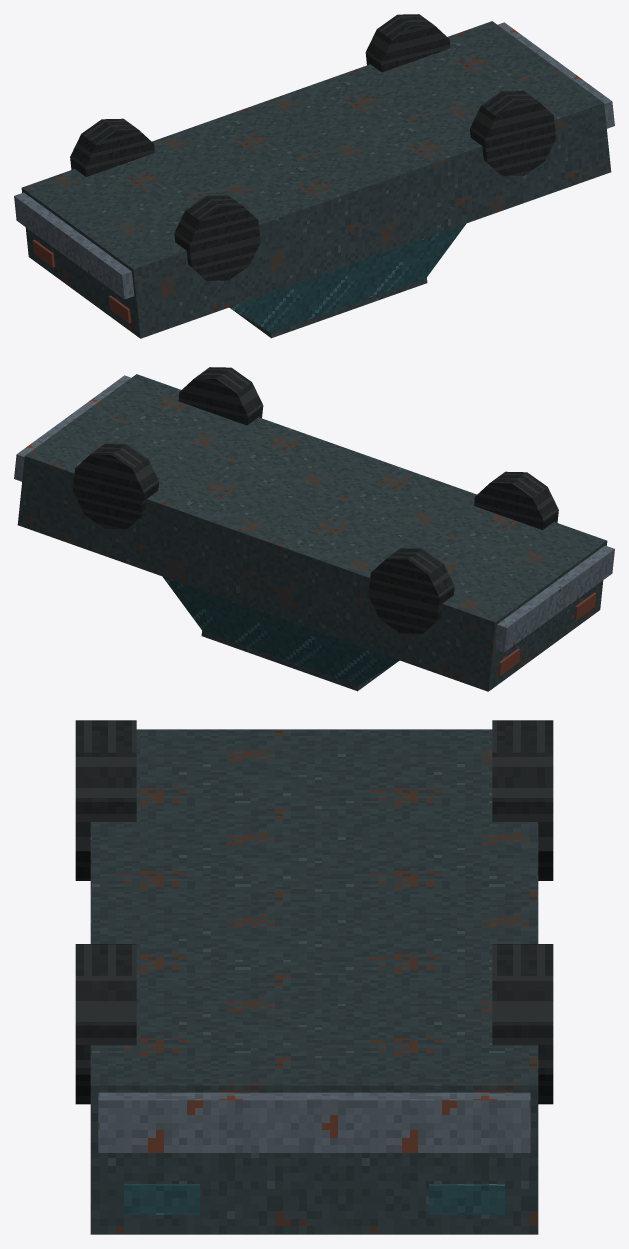
The model's file is car_flipped.glb.
3 views of the same model, one above another, from view 1: azimuth 30°, elevation 25°; view 2: azimuth 150°, elevation 25°; view 3: azimuth 270°, elevation 25° (orthographic). The views are drawn at different scales.
Parts seen in each view (by area): view 1: car_flipped; view 2: car_flipped; view 3: car_flipped.
Boxes of the visible parts, box(x1,y1,x2,y2) form: car_flipped: box(14, 14, 614, 338); car_flipped: box(14, 367, 614, 691); car_flipped: box(75, 720, 553, 1234).
Size of the model in its own units: 4.48 by 1.65 by 1.88.
Materials: 5 (4 with a texture image).
